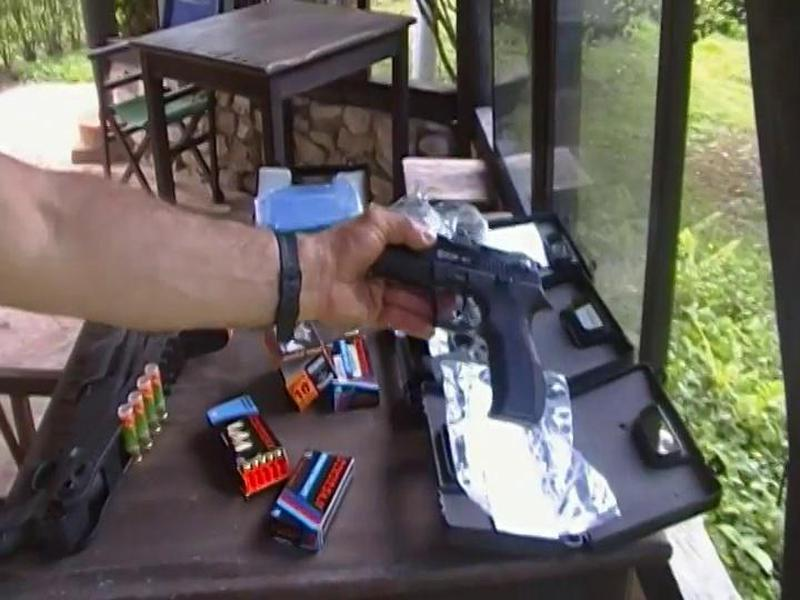Pistola: (360, 200, 570, 444)
